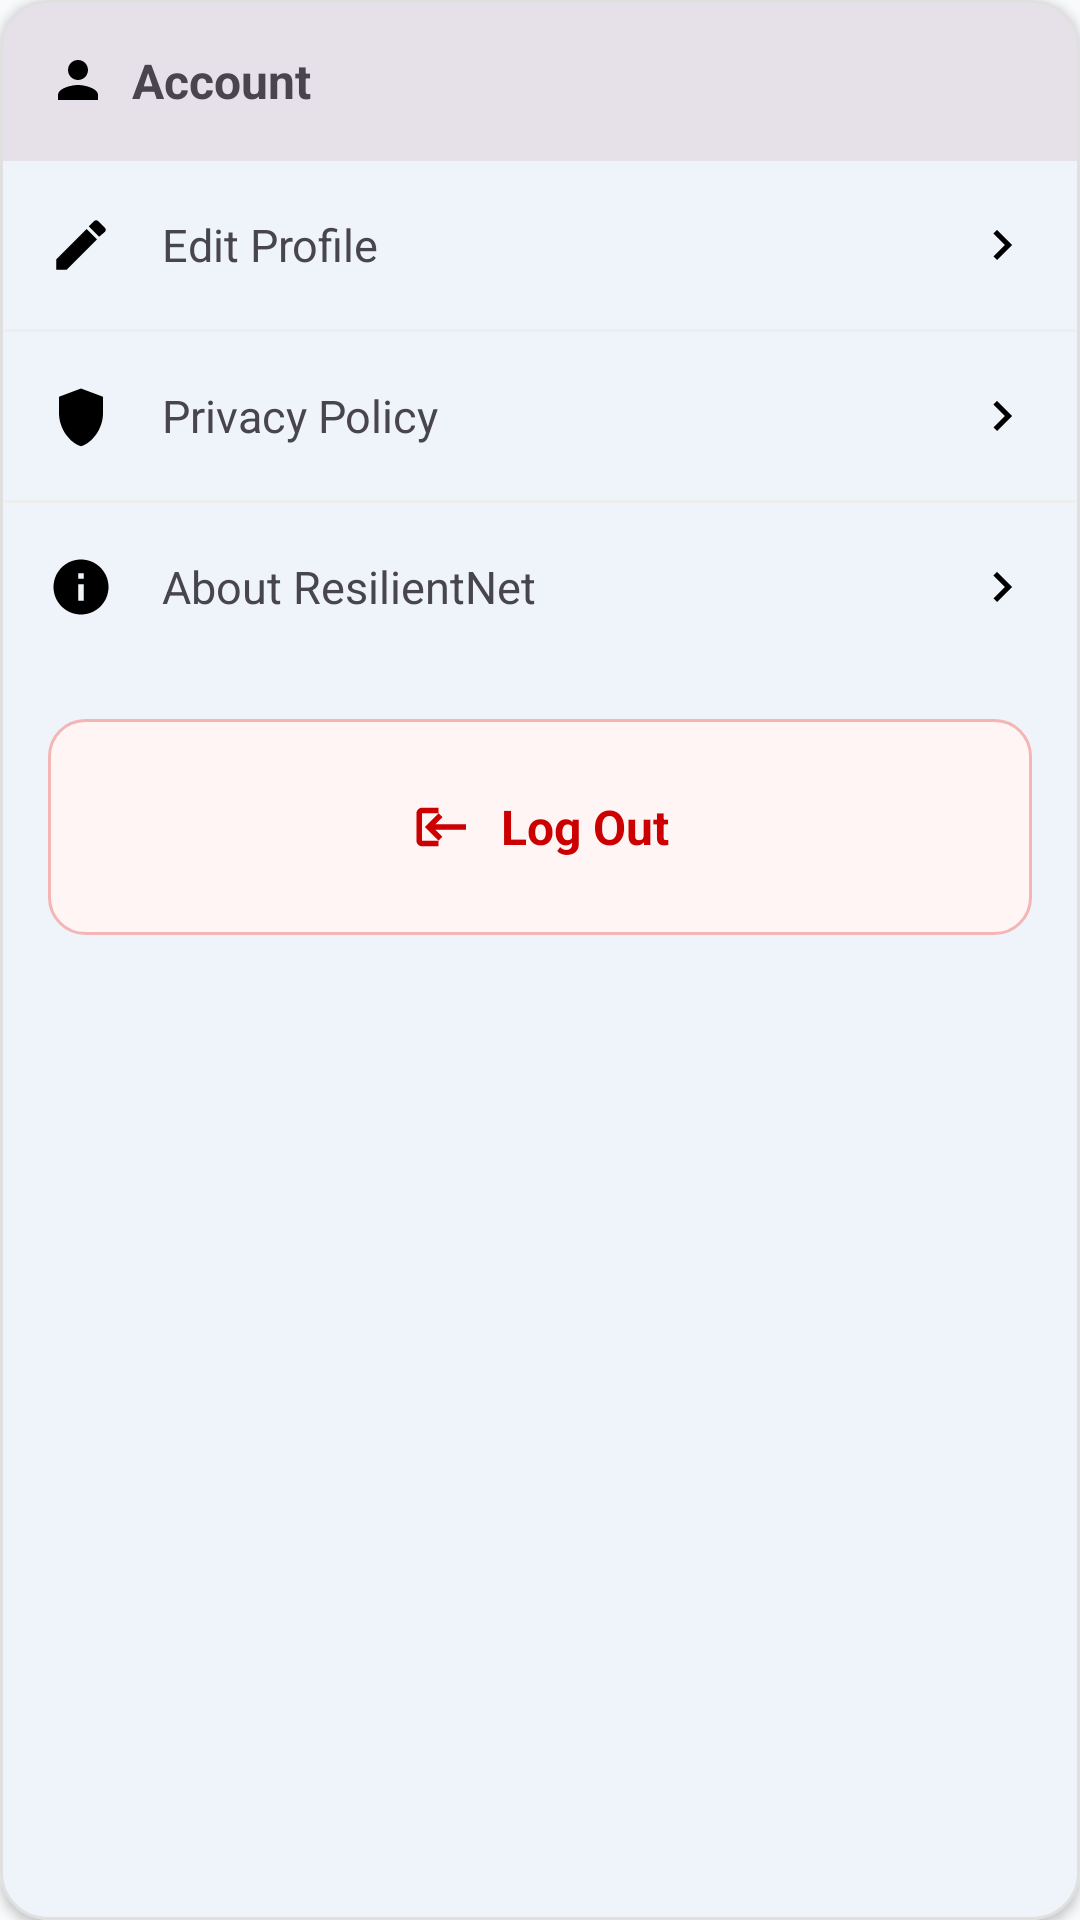

Screen size 1080*1920. Icon name, then its center in pixels as (x,y):
chevron right: (1002,245), (1002,416), (1002,587)
info: (81,587)
person: (78,80)
security: (81,417)
